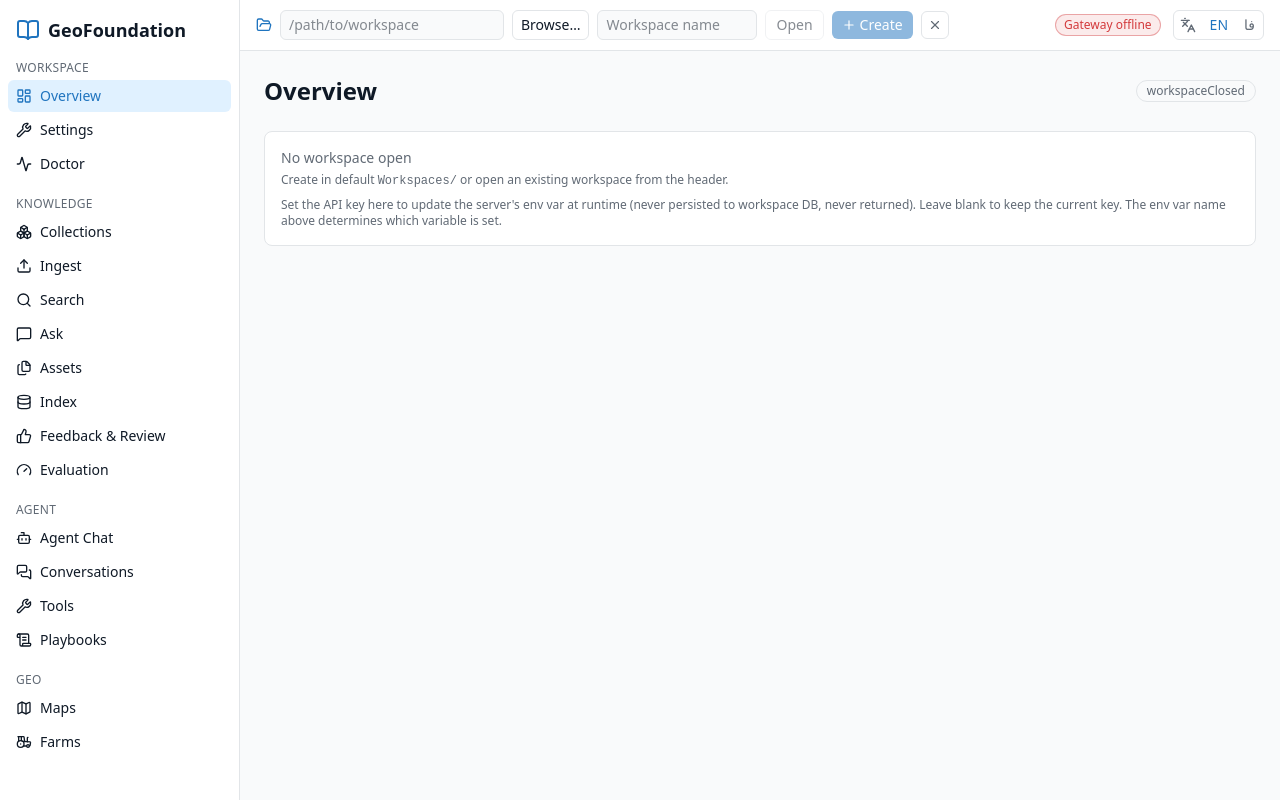
Test case: AppShell integration › language toggle inside header flips UI text
The image size is (1280, 800).
Check: the text "Workspace" is shown, box [16,59,89,76]
Click the button "فا".
click(1250, 25)  # box [1236,11,1263,39]
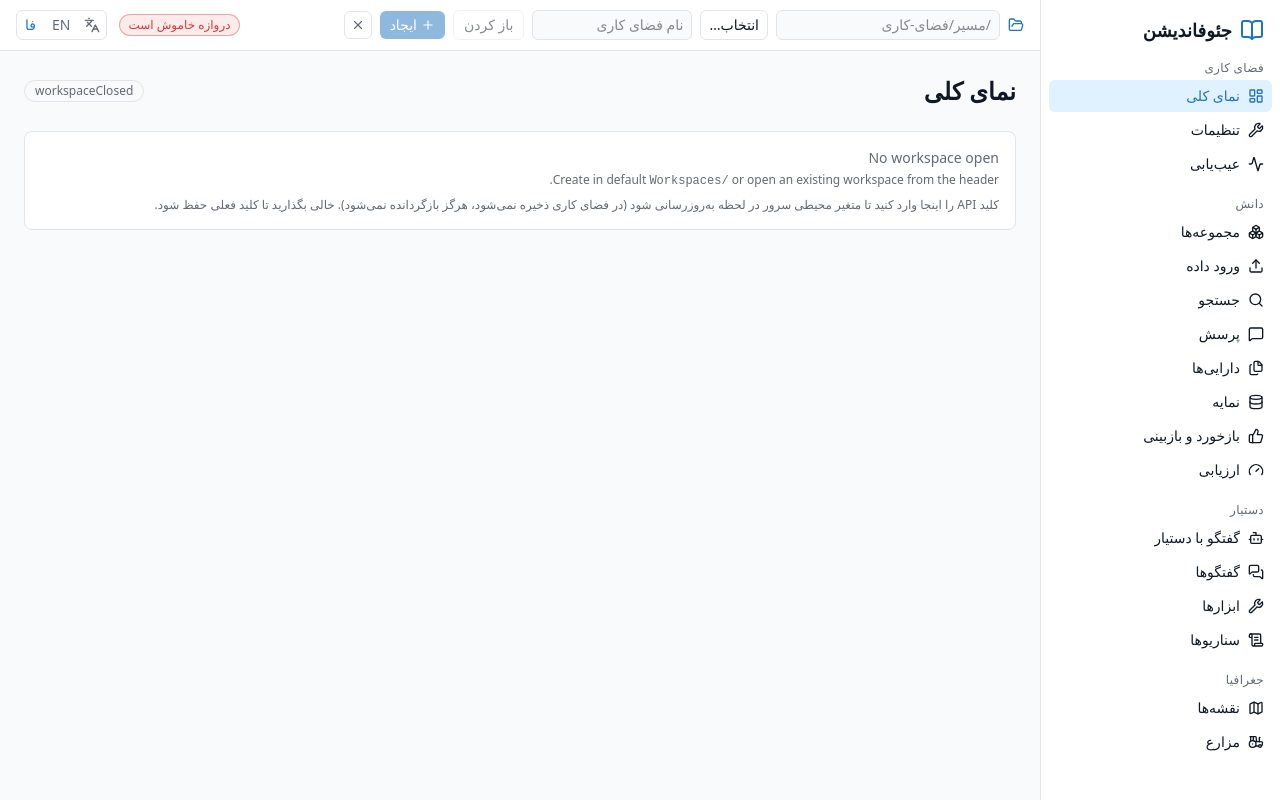
Check: the text "فضای کاری" is shown, box [1204,59,1264,76]
